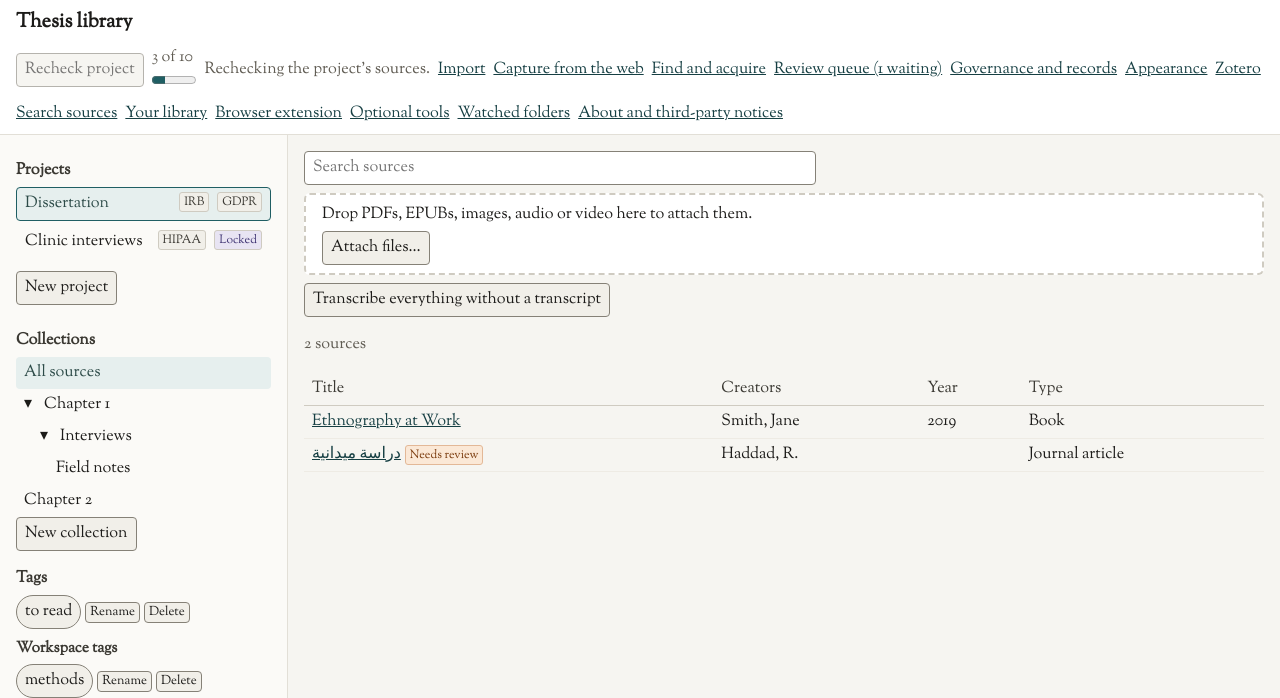
it: Recheck project (R99) › FR-348: a recheck started before the screen was left and running on is shown again on return, from its next event; no second one is started
Check: the button "Dissertation IRB GDPR" is shown, box [16,187,271,221]
Check: the text "3 of 10" is shown, box [152,46,193,69]
What coordinates should you click on to do the following:
click the button "Recheck project"
I would click on:
 (80, 70)
Its box is [16,53,144,87].
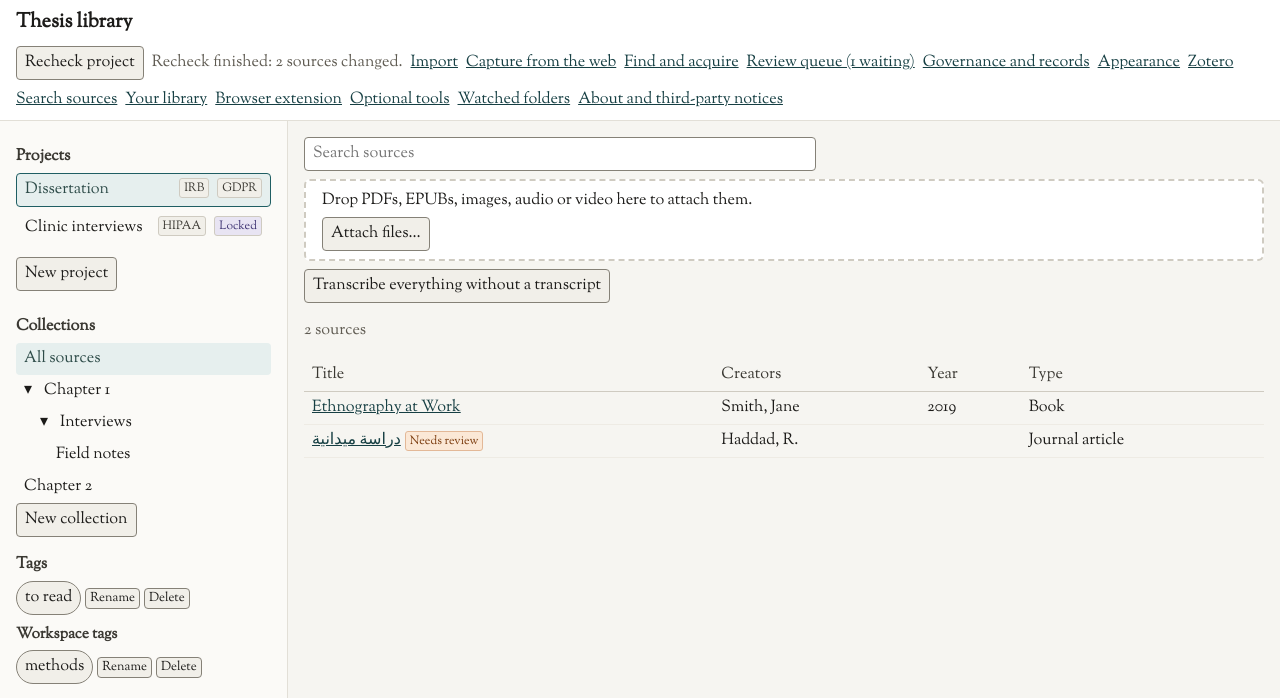
Check: the message named "Project recheck" reads "Recheck finished: 2 sources changed.", box [152,51,403,74]
Check: the button "Recheck project" is enabled, box [16,46,144,80]
